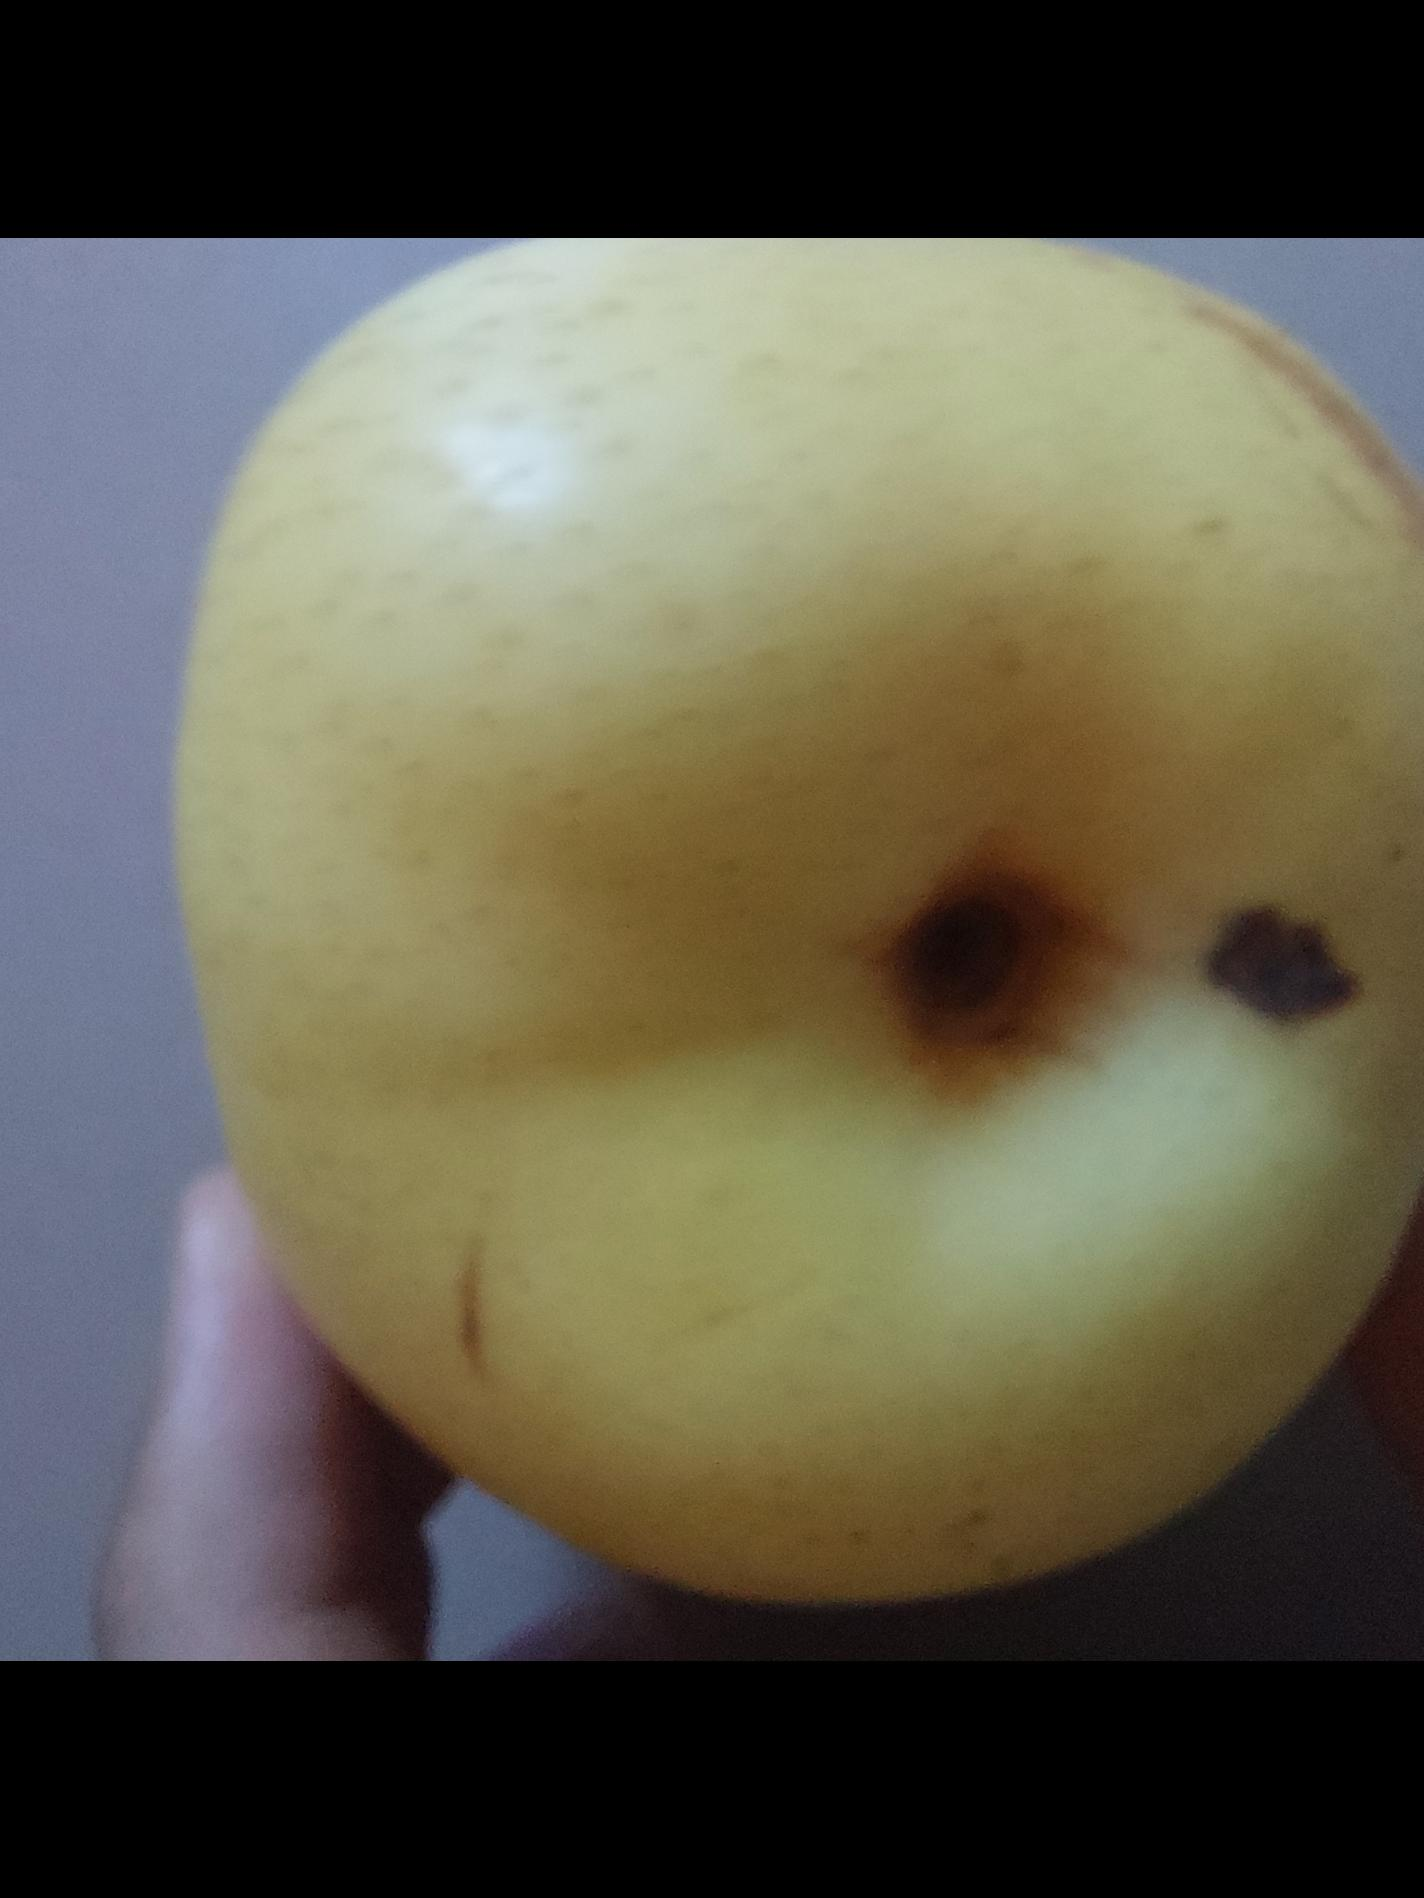Good Pear: (168, 236, 1424, 1630)
